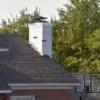Chimney: (16, 16, 61, 63)
